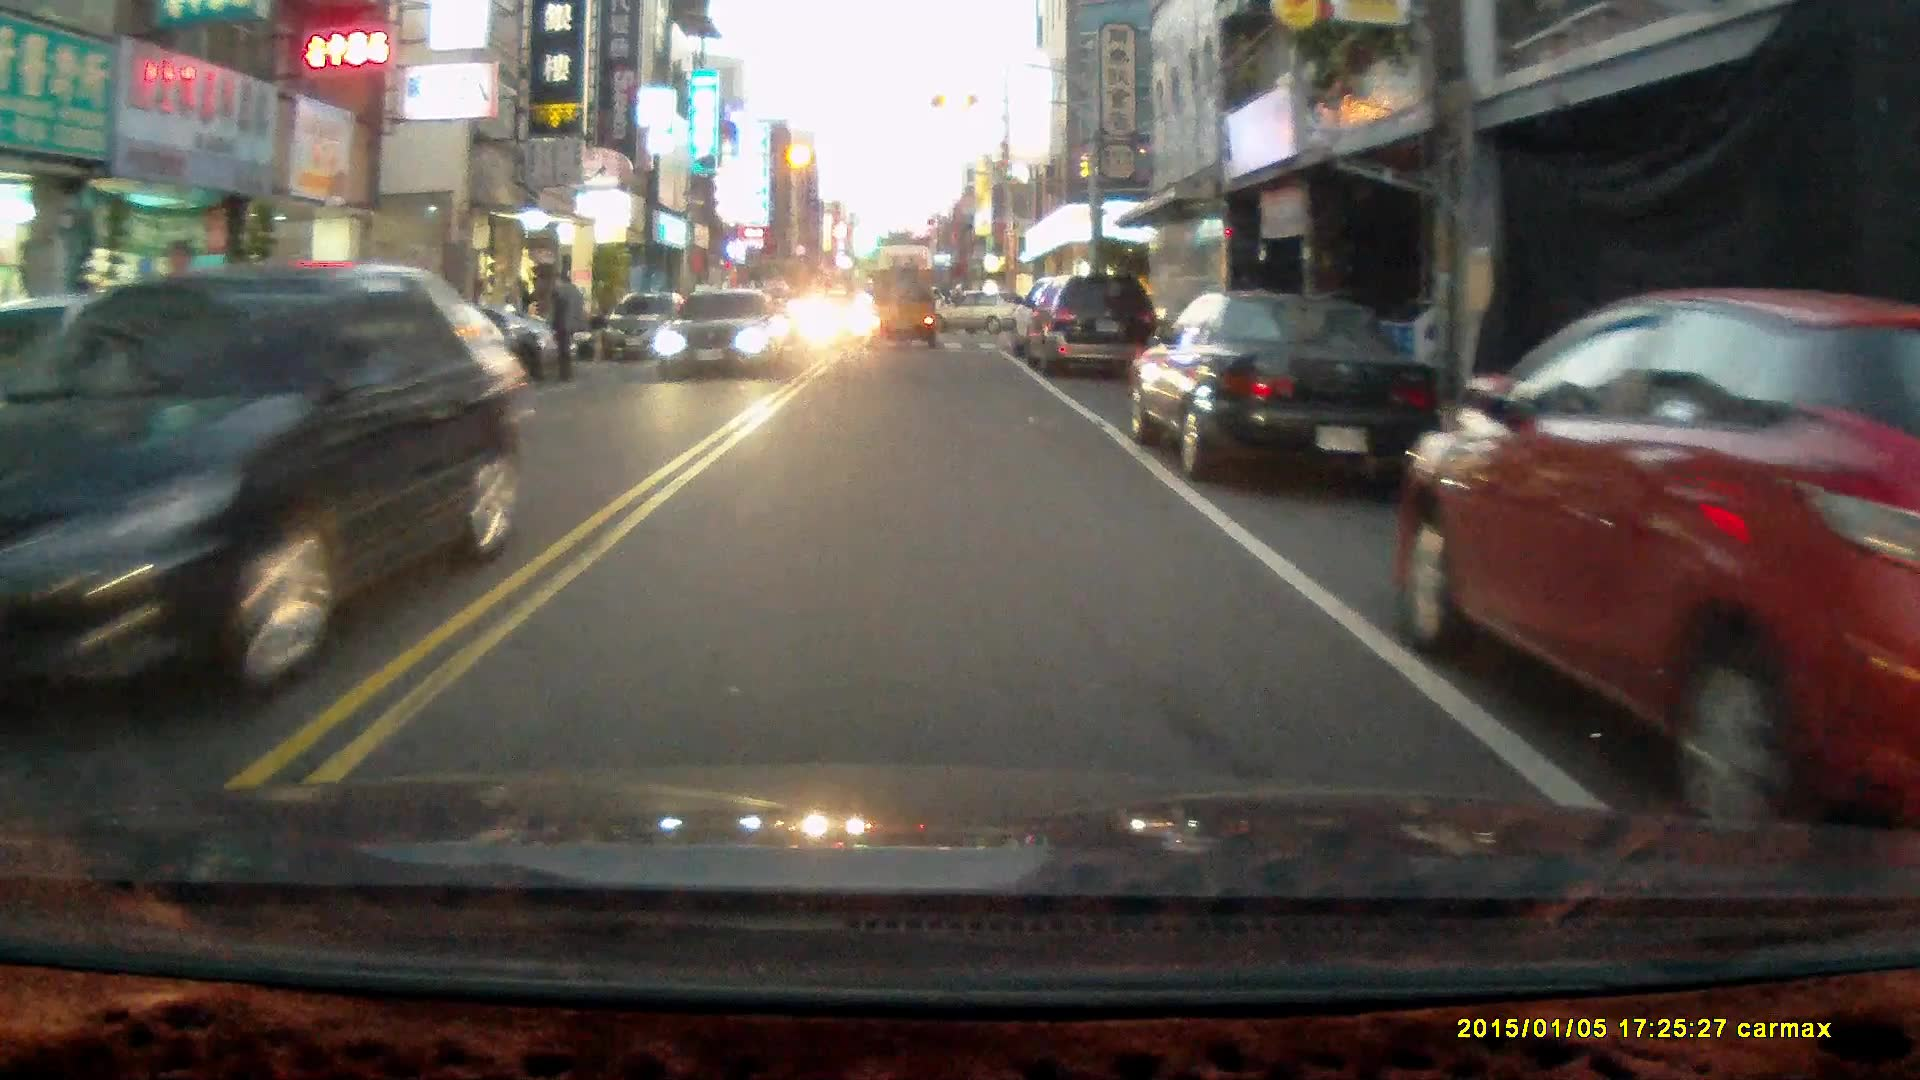pedestrian: (547, 267, 588, 385)
vehicle: (1399, 286, 1920, 819), (20, 259, 529, 749), (1127, 287, 1446, 492), (1019, 273, 1163, 379), (658, 286, 786, 381), (602, 288, 698, 354), (867, 269, 938, 352)
